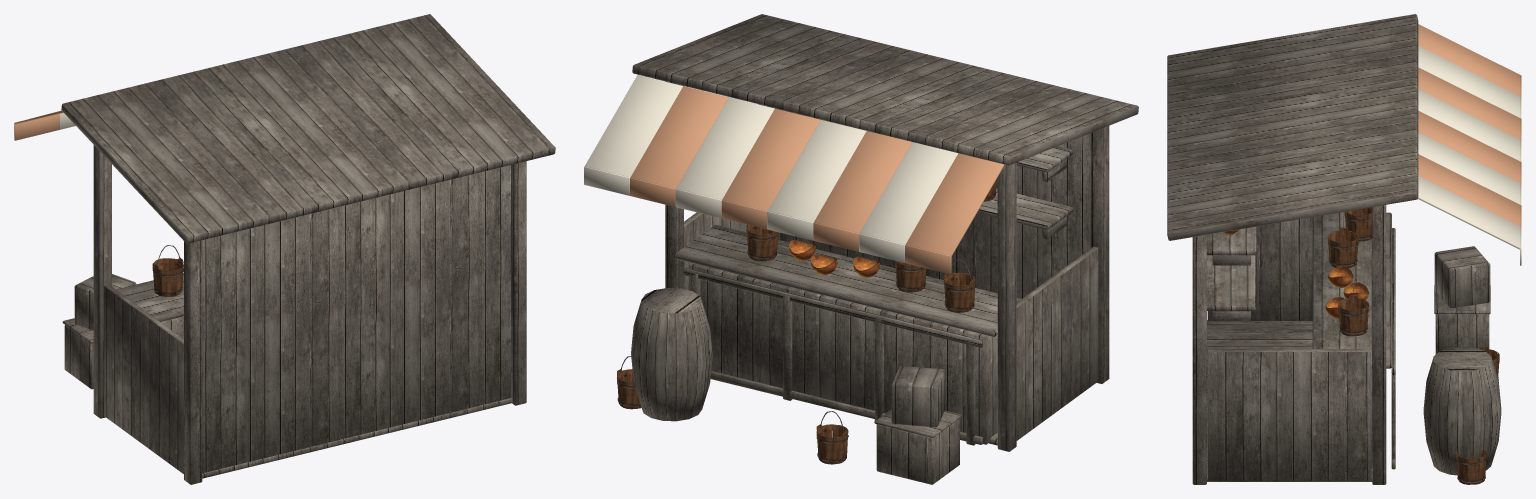
Rendered from shop.glb.
3 views of the same model, side by side, from view 1: azimuth 30°, elevation 25°; view 2: azimuth 150°, elevation 25°; view 3: azimuth 270°, elevation 25° (orthographic). The views are drawn at different scales.
Parts seen in each view (by area): view 1: ShopWood, BucketA, AwningA; view 2: ShopWood, AwningA, AwningB, BucketI, BucketA, BucketC, BucketB, BucketH; view 3: ShopWood, AwningB, AwningA, BucketC, BucketB, BucketH, BucketA, BowlC.
Boxes of the visible parts, x1,y1,x2,y2 form: ShopWood: (61, 14, 555, 484); BucketA: (152, 245, 183, 296); AwningA: (14, 110, 63, 140); ShopWood: (631, 14, 1138, 484); AwningA: (630, 86, 1004, 273); AwningB: (584, 75, 958, 262); BucketI: (816, 411, 848, 464); BucketA: (944, 259, 975, 312); BucketC: (746, 224, 778, 261); BucketB: (895, 261, 926, 292); BucketH: (617, 356, 641, 409); ShopWood: (1167, 14, 1501, 484); AwningB: (1418, 46, 1521, 265); AwningA: (1418, 24, 1521, 226); BucketC: (1338, 284, 1369, 336); BucketB: (1327, 216, 1358, 268); BucketH: (1456, 433, 1487, 484); BucketA: (1344, 207, 1372, 241); BowlC: (1328, 266, 1353, 287).
Bounding box in the file's own units: 3.3 × 2.59 × 2.77.
Materials: 5 (3 with a texture image).
